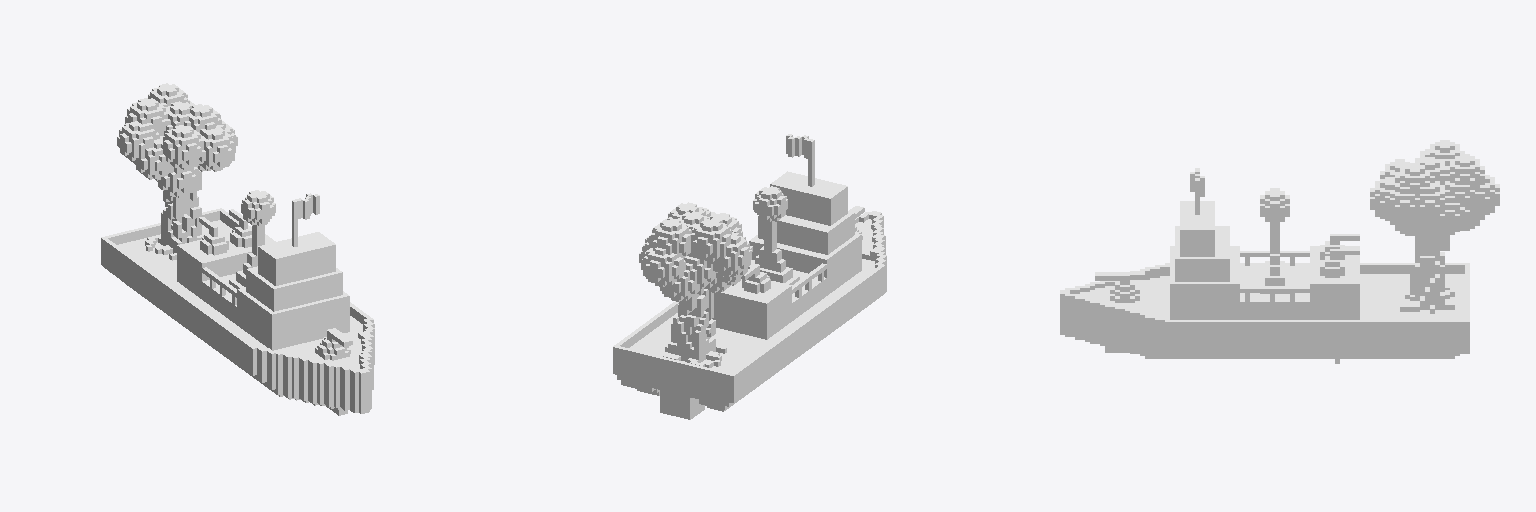
Rendered from shipR-0.obj.
3 renders of one model, left to right at view 1: azimuth 30°, elevation 25°; view 2: azimuth 150°, elevation 25°; view 3: azimuth 270°, elevation 25°, orthographic.
Parts seen in each view (by area): view 1: object 1; view 2: object 1; view 3: object 1.
Part boxes in pixels (x1,y1,x2,y2): object 1: (101,83,374,415); object 1: (613,134,886,419); object 1: (1060,140,1499,363).
Bounding box in the file's own units: 2.8 × 4.4 × 8.8.